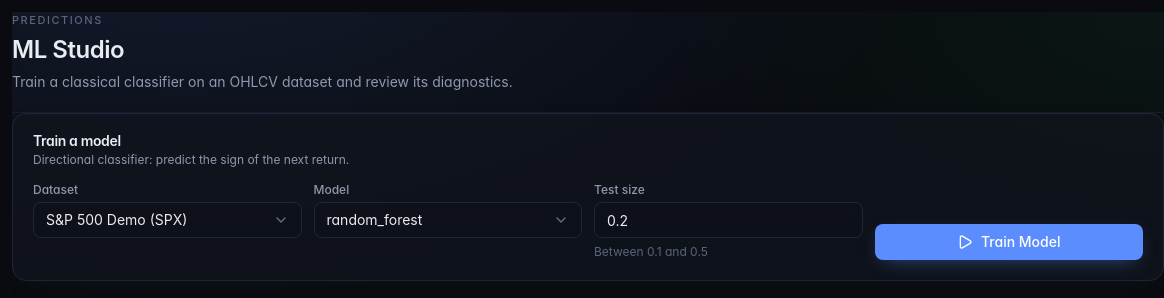
ML page validation › validates test size bounds
Expected: the button "Train Model" is enabled, [874,224,1143,260]
Replace the text in the number field showing "0.2" with "0.9" at x=728, y=220, box [594,202,862,238]
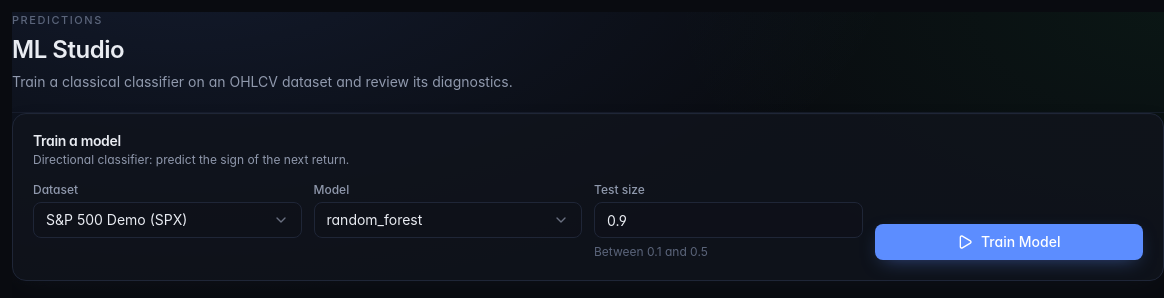
Click the button "Train Model".
click(1009, 242)  # box [874,224,1143,260]
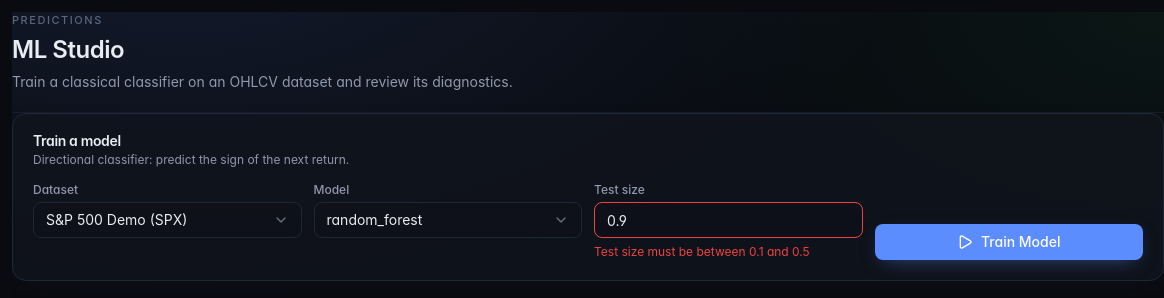
Expected: the text "Test size must be between 0.1 and 0.5" is shown, [594,244,810,259]
